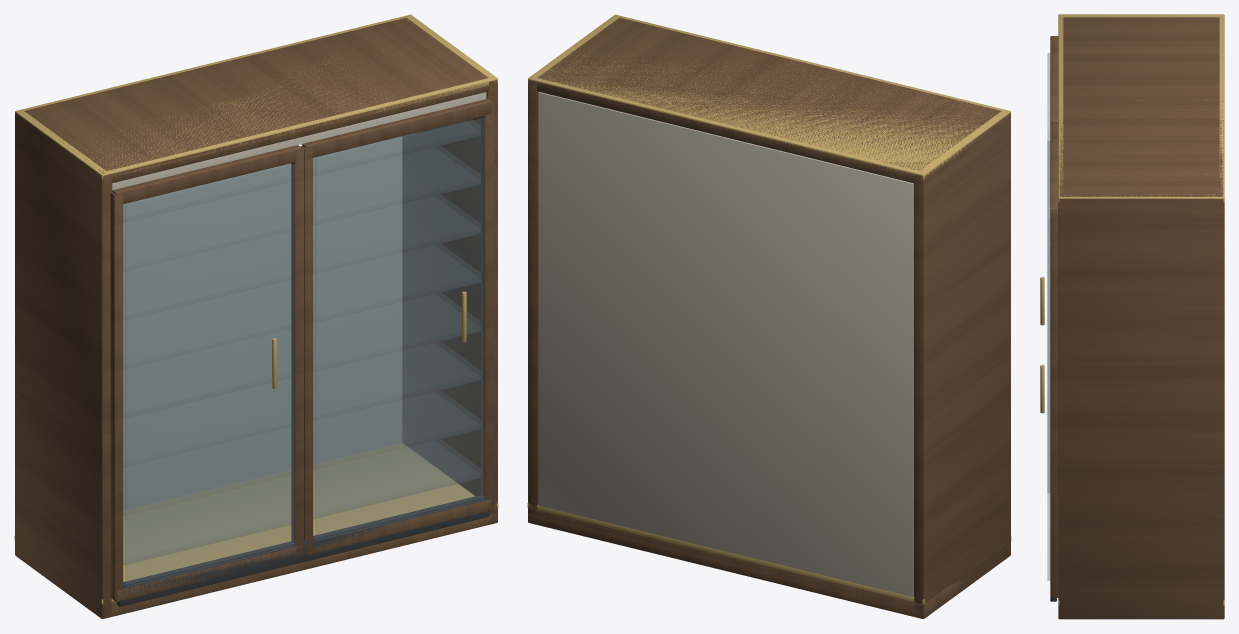
The model's file is pf_display_drink_refrigerator_t5.glb.
3 views of the same model, side by side, from view 1: azimuth 30°, elevation 25°; view 2: azimuth 150°, elevation 25°; view 3: azimuth 270°, elevation 25° (orthographic). The views are drawn at different scales.
Parts seen in each view (by area): view 1: Case_Back, Door_Glass_01, Door_Glass_02, Case_Left, Crown_Main, Case_Right, Plinth_Trim, Shelf_07, Shelf_05, Shelf_01, Shelf_06, Shelf_02 (+16 smaller); view 2: Case_Back, Case_Left, Crown_Main, Crown_Trim, Case_Right, Case_Top, Case_Base, Plinth_Base, Plinth_Trim; view 3: Case_Right, Crown_Main, Door_Frame_02_R, Crown_Trim, Case_Top, Door_Glass_01, Door_Glass_02, Door_Frame_02_Top, Door_Frame_01_Top.
Part boxes in pixels (box(x1,y1,x2,y2)): Case_Back: box(123, 136, 401, 510); Door_Glass_01: box(125, 164, 295, 587); Door_Glass_02: box(315, 118, 485, 540); Case_Left: box(15, 113, 112, 618); Crown_Main: box(24, 17, 488, 170); Case_Right: box(402, 80, 497, 524); Plinth_Trim: box(14, 443, 498, 604); Shelf_07: box(123, 133, 480, 271); Shelf_05: box(123, 242, 480, 369); Shelf_01: box(123, 438, 480, 564); Shelf_06: box(123, 193, 480, 320); Shelf_02: box(123, 389, 480, 516); Case_Back: box(538, 92, 913, 596); Case_Left: box(913, 113, 1010, 618); Crown_Main: box(537, 17, 1001, 170); Crown_Trim: box(528, 14, 1010, 180); Case_Right: box(528, 80, 538, 524); Case_Top: box(531, 81, 1010, 184); Case_Base: box(528, 513, 972, 618); Plinth_Base: box(530, 508, 972, 616); Plinth_Trim: box(527, 503, 1011, 604); Case_Right: box(1058, 193, 1224, 619); Crown_Main: box(1063, 17, 1219, 194); Door_Frame_02_R: box(1050, 211, 1058, 597); Crown_Trim: box(1058, 14, 1224, 202); Case_Top: box(1059, 101, 1223, 196); Door_Glass_01: box(1047, 53, 1049, 492); Door_Glass_02: box(1047, 141, 1049, 580); Door_Frame_02_Top: box(1050, 123, 1058, 211); Door_Frame_01_Top: box(1050, 36, 1058, 123).
Bounding box in the file's own units: 2.35 × 2.52 × 0.997.
7 materials, 2 textured.
